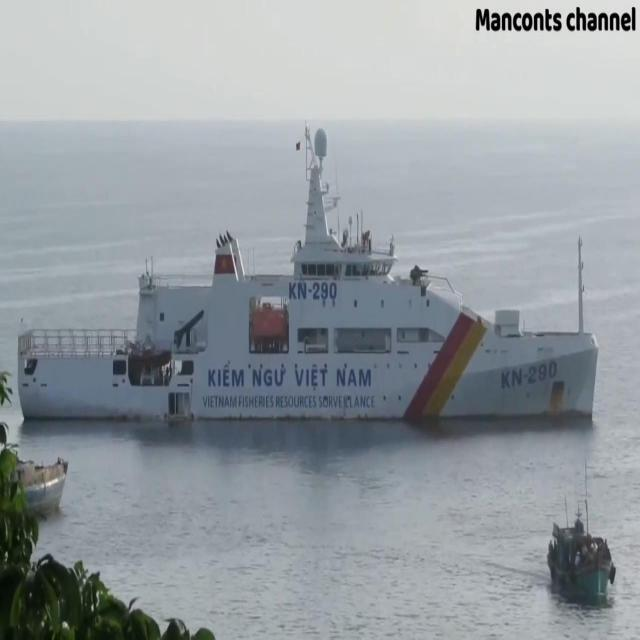Ship: (20, 121, 600, 431), (547, 515, 617, 606)
